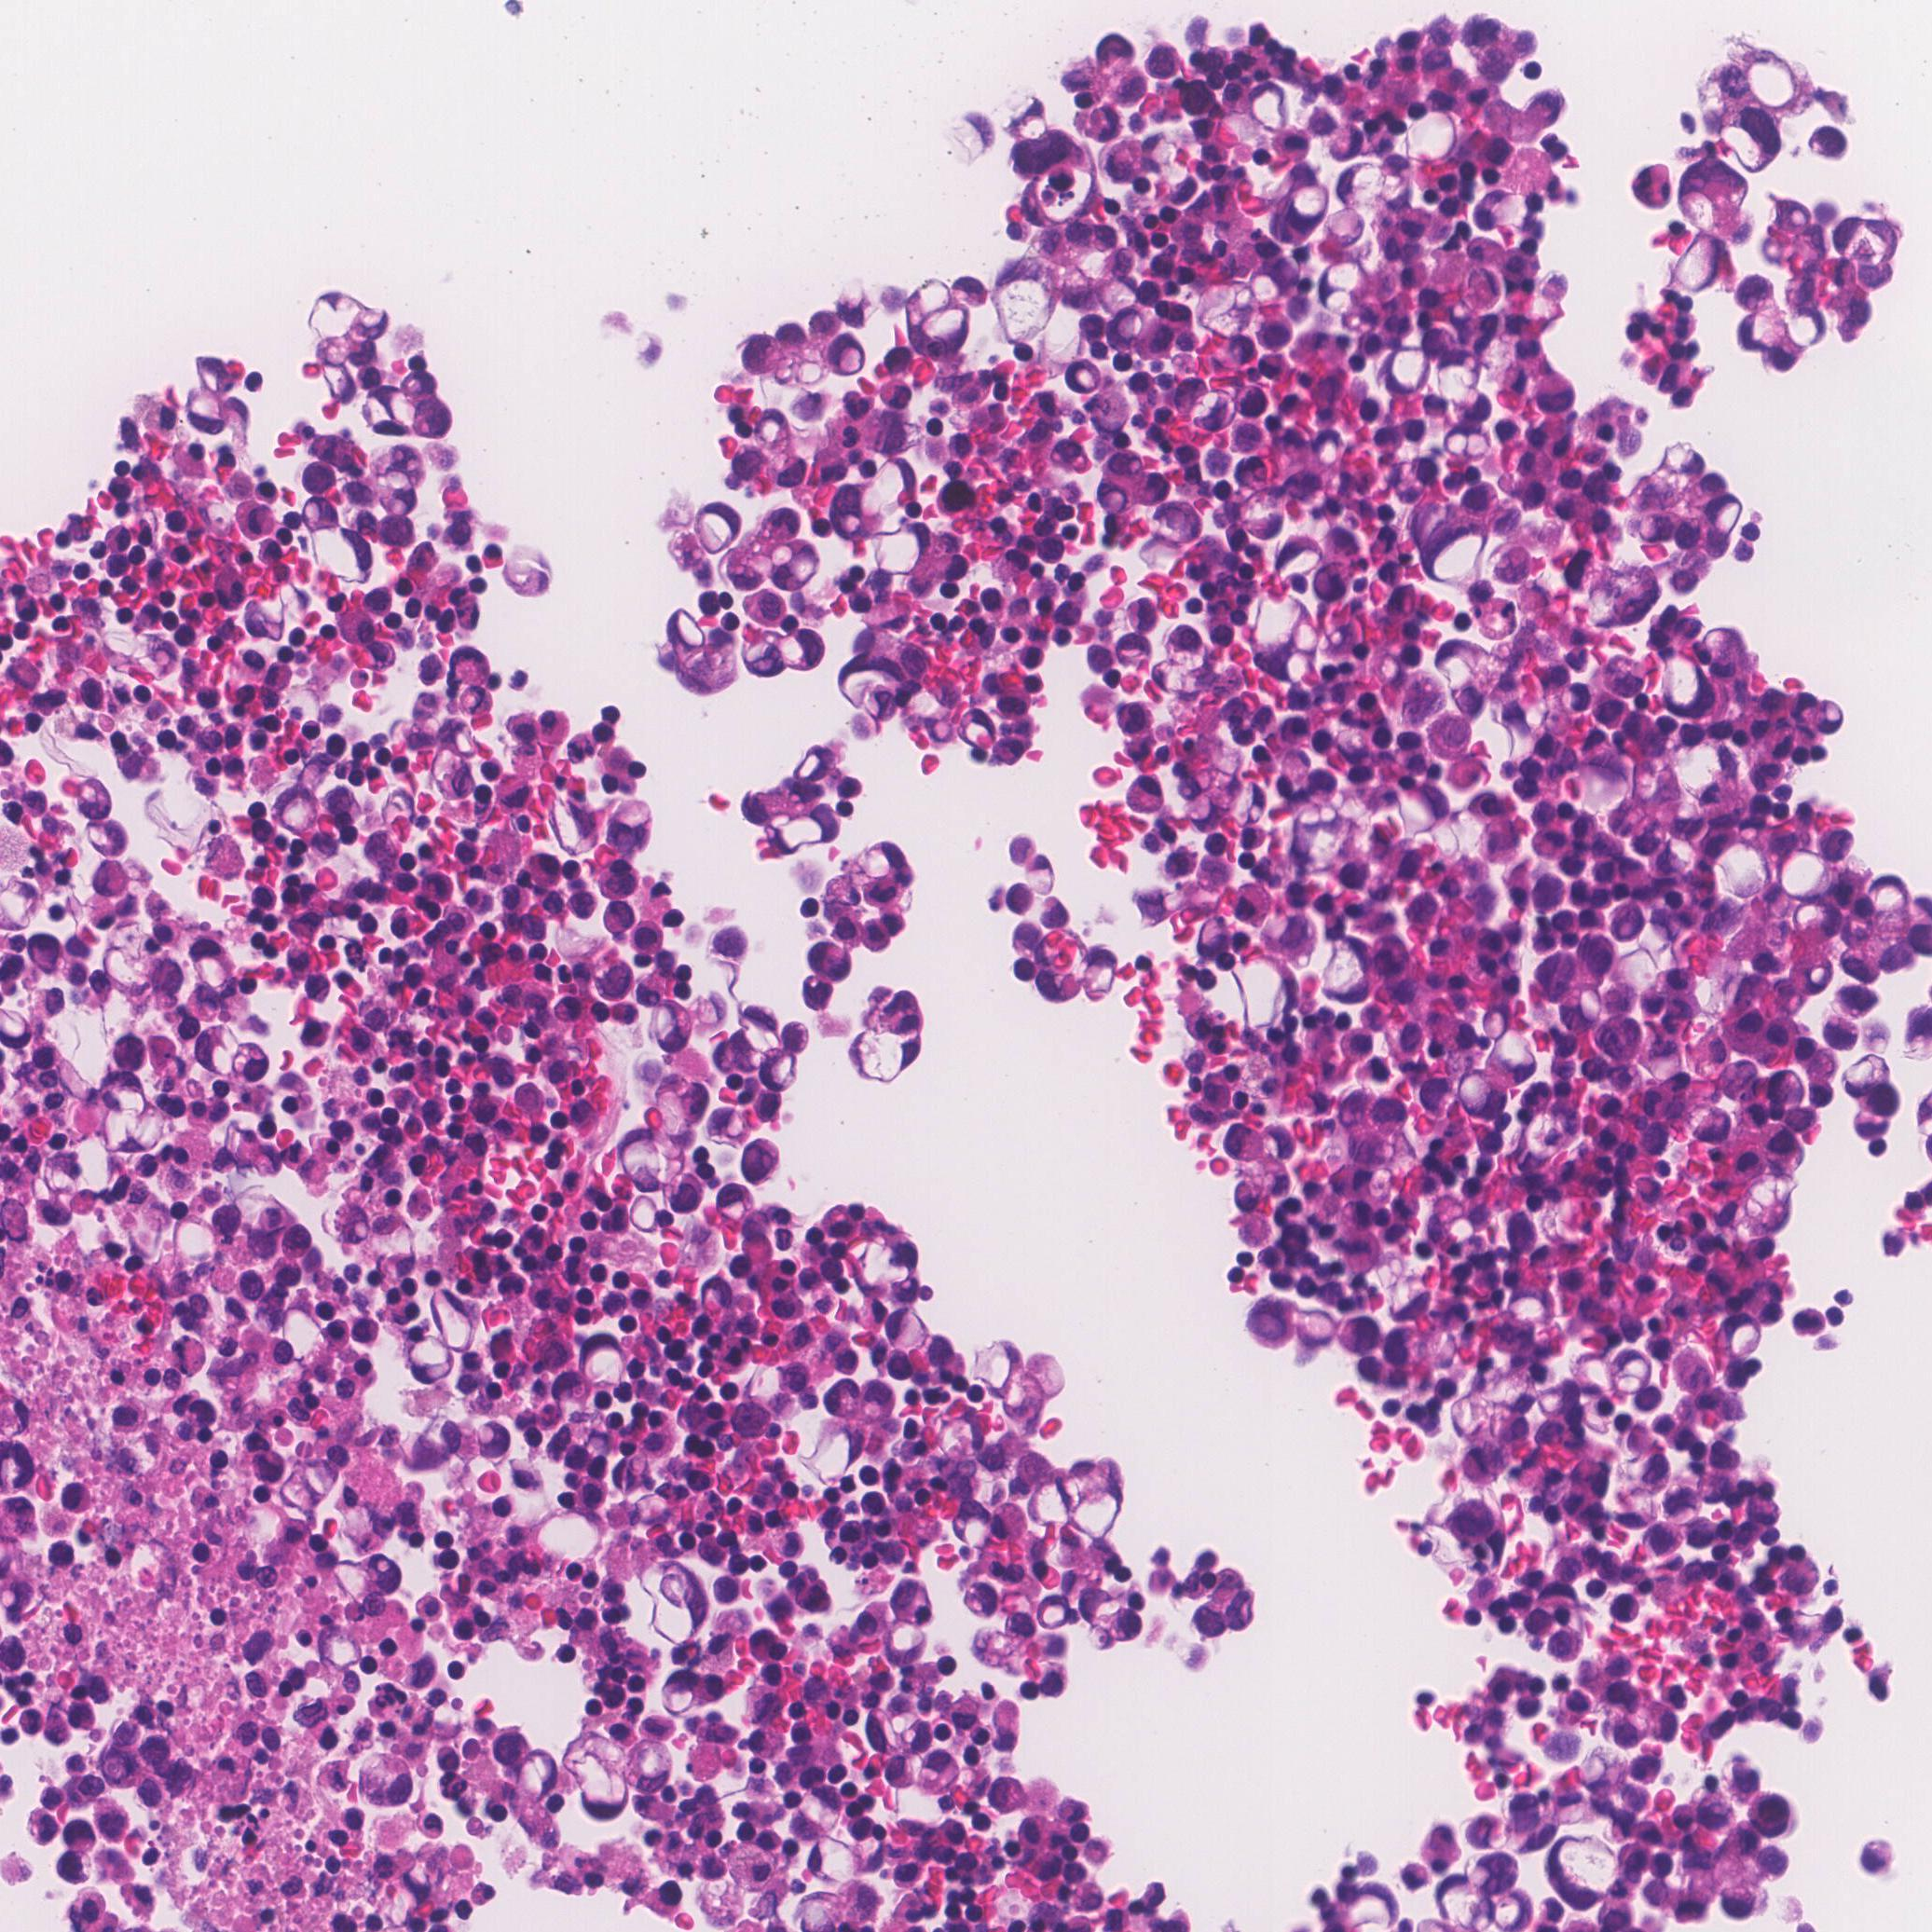ring_cell_cancer: (1545, 1824, 1617, 1916), (564, 1737, 635, 1822), (1391, 96, 1468, 157), (1417, 522, 1490, 586), (303, 290, 386, 343), (991, 276, 1054, 343), (837, 651, 904, 715), (317, 524, 382, 587), (1672, 228, 1730, 299), (851, 1026, 916, 1086), (867, 524, 931, 584), (1746, 46, 1803, 113), (1658, 658, 1714, 724), (1711, 835, 1767, 901), (655, 1074, 708, 1143), (1721, 106, 1778, 170), (547, 796, 600, 863), (324, 1560, 405, 1603), (1571, 759, 1631, 816), (1773, 844, 1833, 899), (623, 1743, 683, 1798), (1246, 78, 1309, 129), (1327, 936, 1376, 1001), (614, 1132, 663, 1198), (763, 534, 819, 589), (810, 1426, 865, 1483), (787, 1787, 840, 1845), (430, 1290, 479, 1350), (908, 318, 971, 363), (607, 798, 658, 853), (998, 1371, 1049, 1426), (1242, 487, 1292, 543), (1401, 780, 1451, 837), (690, 502, 745, 552), (1453, 1069, 1507, 1118), (1311, 265, 1362, 317), (1067, 1491, 1120, 1541), (272, 787, 326, 837), (1481, 189, 1539, 234), (1785, 897, 1844, 941), (1387, 343, 1435, 396), (878, 458, 925, 511), (1021, 1348, 1069, 1399), (99, 947, 150, 994), (580, 1334, 626, 1387), (315, 1629, 370, 1674), (734, 1005, 782, 1054), (1269, 913, 1316, 962), (1246, 1300, 1295, 1348), (660, 1667, 708, 1716), (1582, 577, 1628, 628), (1476, 1884, 1527, 1930), (370, 1759, 414, 1812), (849, 844, 911, 881), (826, 327, 874, 375), (1493, 1030, 1541, 1077), (1743, 308, 1789, 357), (1322, 117, 1368, 166), (175, 1214, 219, 1265), (1277, 529, 1320, 582), (651, 1001, 694, 1054), (1693, 625, 1746, 667), (982, 1338, 1023, 1392), (1440, 1877, 1486, 1925), (1435, 640, 1484, 685), (1612, 1348, 1654, 1399), (1028, 1483, 1079, 1525), (867, 1709, 909, 1760), (317, 1207, 368, 1249), (548, 925, 607, 962), (188, 936, 228, 989), (433, 750, 474, 803), (780, 628, 826, 674), (916, 1752, 962, 1798), (405, 1336, 448, 1385), (518, 1752, 561, 1801), (189, 391, 232, 441), (1865, 879, 1916, 920), (1640, 1039, 1684, 1085), (625, 1189, 672, 1231), (895, 1582, 938, 1629), (315, 361, 357, 409), (1720, 1313, 1760, 1362), (1086, 945, 1118, 1007), (1339, 163, 1384, 207), (1847, 1054, 1891, 1099), (1192, 389, 1238, 432), (1665, 435, 1707, 481), (1700, 492, 1746, 534), (685, 1223, 727, 1269), (295, 1458, 341, 1500), (198, 1030, 241, 1076), (1523, 1118, 1571, 1159), (1286, 184, 1329, 228), (1100, 272, 1145, 315), (377, 786, 421, 828), (106, 1077, 150, 1120), (1534, 377, 1578, 419), (752, 403, 793, 449), (759, 1046, 800, 1092), (453, 648, 494, 694), (667, 612, 708, 656), (1566, 985, 1606, 1030), (510, 1449, 550, 1493), (1525, 90, 1571, 129), (1794, 299, 1831, 347), (1861, 216, 1898, 264), (1511, 1290, 1559, 1327), (1576, 1352, 1614, 1399), (1329, 727, 1378, 763), (1612, 950, 1661, 985), (1675, 188, 1718, 228), (1422, 1329, 1463, 1371), (1325, 211, 1371, 248), (1127, 770, 1164, 816), (962, 708, 998, 755), (708, 1106, 750, 1145), (81, 895, 124, 934), (74, 778, 113, 821), (301, 490, 340, 533), (58, 1060, 94, 1106), (1451, 1399, 1490, 1440), (886, 1309, 927, 1348), (635, 1488, 676, 1527), (103, 1113, 142, 1154), (126, 1113, 166, 1152), (1226, 1123, 1269, 1161), (1037, 1596, 1074, 1638), (823, 1382, 865, 1419), (1196, 913, 1231, 957), (28, 932, 64, 977), (1836, 212, 1870, 258), (472, 1419, 511, 1458), (377, 386, 416, 425), (888, 1622, 929, 1660), (173, 1339, 211, 1380), (991, 1775, 1026, 1817), (239, 499, 272, 543), (947, 269, 985, 306), (1067, 357, 1106, 395), (1127, 598, 1164, 637), (1635, 916, 1674, 954), (1767, 1067, 1806, 1104), (234, 1046, 272, 1083), (1302, 1307, 1338, 1348), (5, 651, 41, 692), (1028, 853, 1058, 901), (904, 280, 947, 313), (1309, 428, 1343, 471), (789, 748, 832, 782), (993, 1504, 1030, 1541), (1185, 793, 1221, 832), (1821, 701, 1856, 740), (840, 287, 874, 327), (5, 1194, 30, 1249), (301, 757, 343, 789), (1113, 308, 1148, 345), (384, 485, 421, 520), (1097, 481, 1136, 515), (1371, 653, 1405, 692), (718, 1184, 752, 1223), (462, 683, 495, 722), (855, 1293, 886, 1334), (501, 777, 533, 817), (1822, 1017, 1858, 1053), (64, 1821, 97, 1858), (1138, 133, 1180, 161), (1249, 274, 1284, 308), (603, 901, 639, 934), (1587, 1394, 1617, 1433), (1279, 748, 1309, 786), (787, 356, 826, 384), (379, 717, 423, 741), (442, 722, 476, 754), (1366, 1166, 1394, 1201), (1290, 623, 1318, 656), (363, 396, 391, 430), (1295, 803, 1322, 839), (925, 715, 952, 750), (1483, 1003, 1511, 1033), (212, 1265, 241, 1293), (1442, 425, 1467, 456), (582, 1431, 614, 1456), (1468, 426, 1490, 460)
